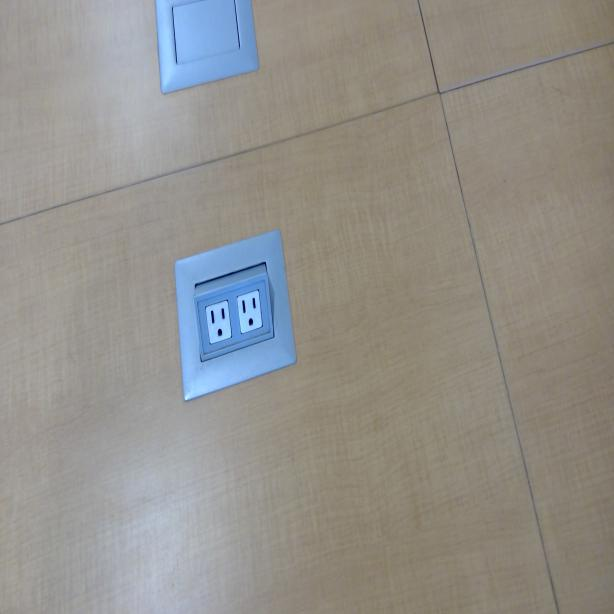typeb: (204, 302, 234, 344), (236, 290, 264, 334)
